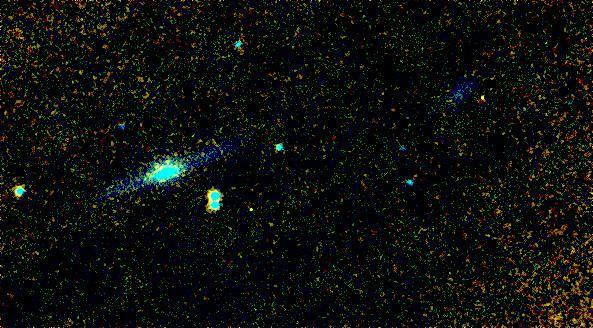star: (472, 82, 502, 112)
